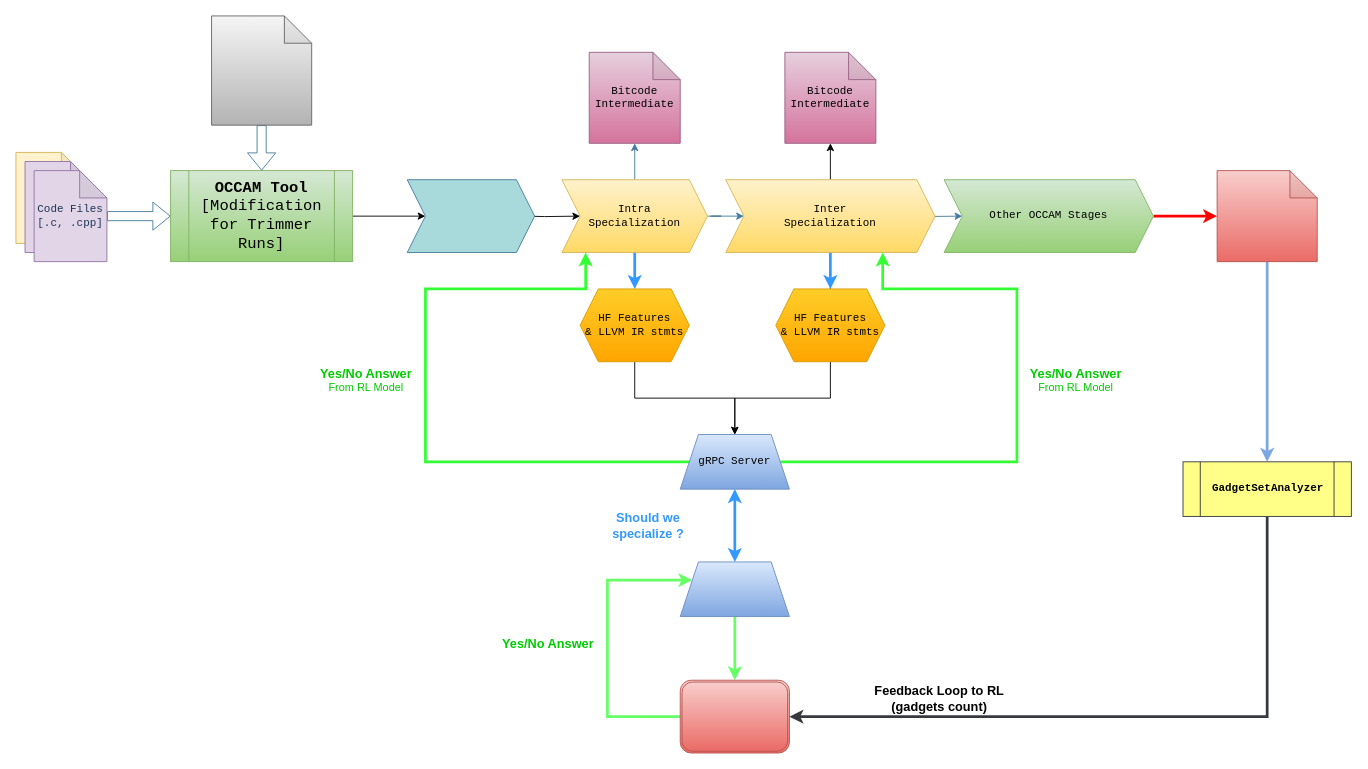
Some shapes in this 1368 by 769 pixel diagram are drawn without their labels. Here are the shapes that lost their labels. From the top down, the centre of each, then its label:
the point at 261,70: Manifest File
the point at 470,216: Generate a "previrt" context
the point at 1266,216: Generate Intermediate Binary
the point at 734,589: gRPC Client
the point at 734,716: PyTorch RL Model
